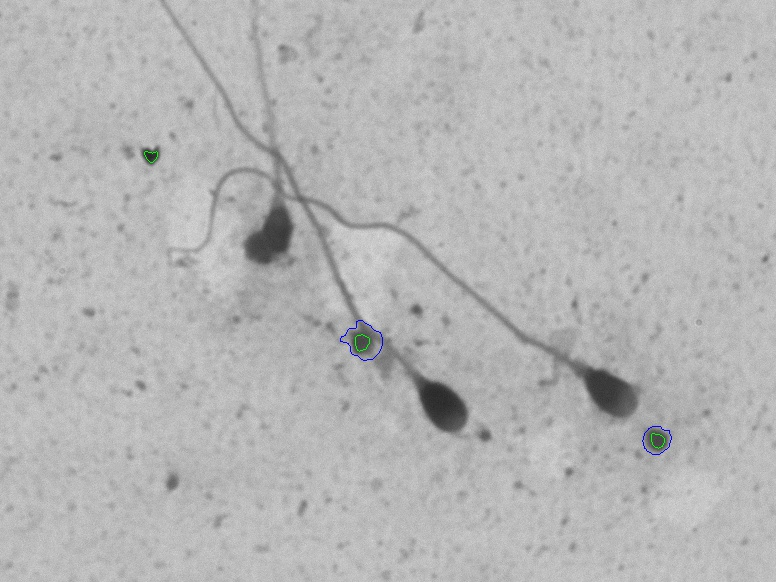Normal: (149, 8, 517, 474), (153, 141, 653, 432)
